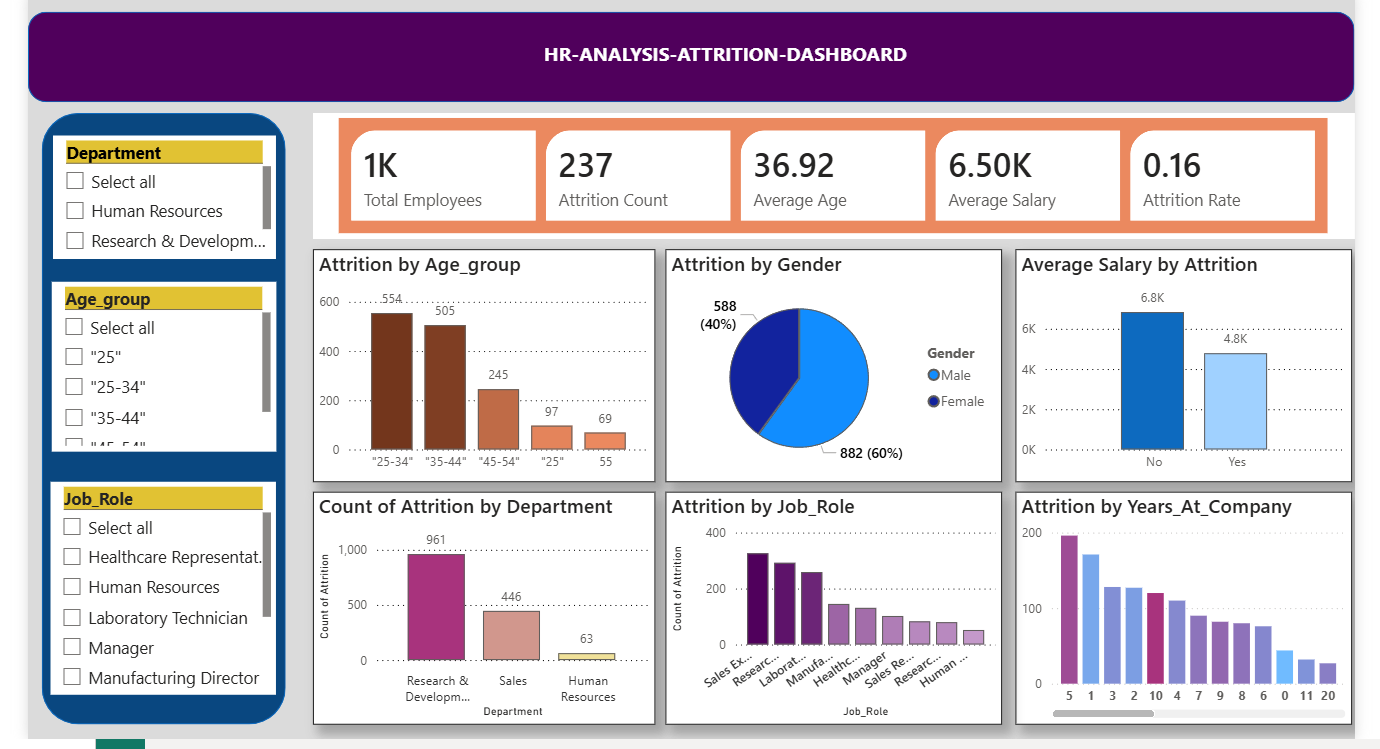

The dashboard page shown, as its layout file describes it:
{"tool":"powerbi","page":{"name":"Overview","canvas":[1280,720],"ordinal":0},"visuals":[{"type":"shape","box":[13.5,116.4,235.5,590.1],"z":0},{"type":"shape","box":[0,17.7,1280.3,87.3],"z":1000},{"type":"cardVisual","fields":{"Data":["HR-Employee-Attriti.Total Employees","HR-Employee-Attriti.Attrition Count","HR-Employee-Attriti.Average Age","HR-Employee-Attriti.Average Salary","HR-Employee-Attriti.Attrition Rate"]},"box":[274.7,116.4,1005.5,121.8],"z":2000},{"type":"textbox","box":[334.3,40.6,678,55.5],"z":3000},{"type":"slicer","fields":{"Values":["HR-Employee-Attriti.Department"]},"box":[24.4,138,215.2,119.1],"z":4000},{"type":"slicer","fields":{"Values":["HR-Employee-Attriti.Age_group"]},"box":[23,278.8,216.5,163.8],"z":5000},{"type":"slicer","fields":{"Values":["HR-Employee-Attriti.Job_Role"]},"box":[21.7,472.3,217.9,205.7],"z":6000},{"type":"columnChart","title":" Attrition by Age_group","fields":{"Category":["HR-Employee-Attriti.Age_group"],"Y":["CountNonNull(HR-Employee-Attriti.Attrition)"]},"box":[274.7,247.7,330.2,224.7],"z":7000},{"type":"columnChart","fields":{"Category":["HR-Employee-Attriti.Department"],"Y":["CountNonNull(HR-Employee-Attriti.Attrition)"]},"box":[274.7,481.8,330.2,224.7],"z":8000},{"type":"pieChart","title":"Attrition by Gender","fields":{"Y":["CountNonNull(HR-Employee-Attriti.Attrition)"],"Category":["HR-Employee-Attriti.Gender"]},"box":[615.8,247.7,324.8,224.7],"z":9000},{"type":"clusteredColumnChart","fields":{"Y":["HR-Employee-Attriti.Average Salary"],"Category":["HR-Employee-Attriti.Attrition"]},"box":[952.8,247.7,324.8,224.7],"z":10000},{"type":"clusteredColumnChart","title":" Attrition by Years_At_Company","fields":{"Category":["HR-Employee-Attriti.Years_At_Company"],"Y":["CountNonNull(HR-Employee-Attriti.Attrition)"]},"box":[952.8,481.8,324.8,224.7],"z":11000},{"type":"columnChart","title":"Attrition by Job_Role","fields":{"Category":["HR-Employee-Attriti.Job_Role"],"Y":["CountNonNull(HR-Employee-Attriti.Attrition)"]},"box":[615.8,481.8,324.8,224.7],"z":12000}]}

Visuals, with their boxes in screenshot pixels (x1, y1, x2, y2):
shape: Rect(43, 112, 284, 716)
shape: Rect(29, 11, 1340, 100)
cardVisual - HR-Employee-Attriti.Total Employees x HR-Employee-Attriti.Attrition Count: Rect(310, 112, 1339, 237)
textbox: Rect(371, 34, 1065, 91)
slicer - HR-Employee-Attriti.Department: Rect(54, 134, 274, 256)
slicer - HR-Employee-Attriti.Age_group: Rect(52, 278, 274, 446)
slicer - HR-Employee-Attriti.Job_Role: Rect(51, 476, 274, 687)
" Attrition by Age_group" columnChart: Rect(310, 246, 648, 476)
columnChart - HR-Employee-Attriti.Department x CountNonNull(HR-Employee-Attriti.Attrition): Rect(310, 486, 648, 716)
"Attrition by Gender" pieChart: Rect(659, 246, 992, 476)
clusteredColumnChart - HR-Employee-Attriti.Average Salary x HR-Employee-Attriti.Attrition: Rect(1004, 246, 1337, 476)
" Attrition by Years_At_Company" clusteredColumnChart: Rect(1004, 486, 1337, 716)
"Attrition by Job_Role" columnChart: Rect(659, 486, 992, 716)
